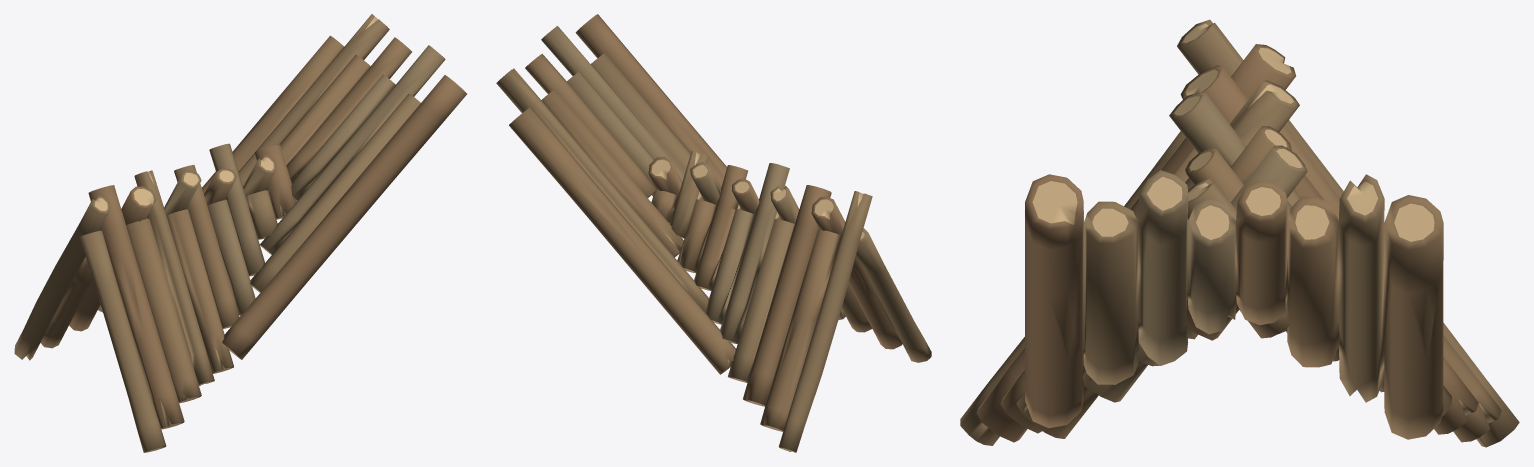
File: rpgpp_ag_roof_01e_6x3x3_half.fbx
The picture shows the model from 3 angles, left to right: view 1: azimuth 30°, elevation 25°; view 2: azimuth 150°, elevation 25°; view 3: azimuth 270°, elevation 25°; orthographic projection. The views are drawn at different scales.
Visible parts, largest first — view 1: rpgpp_ag_roof_01e_6x3x3_half; view 2: rpgpp_ag_roof_01e_6x3x3_half; view 3: rpgpp_ag_roof_01e_6x3x3_half.
Part boxes in pixels (x1,y1,x2,y2): rpgpp_ag_roof_01e_6x3x3_half: [14, 14, 466, 452]; rpgpp_ag_roof_01e_6x3x3_half: [496, 14, 931, 452]; rpgpp_ag_roof_01e_6x3x3_half: [960, 19, 1519, 447].
Size of the model in its own units: 5.66 by 4.61 by 4.01.
